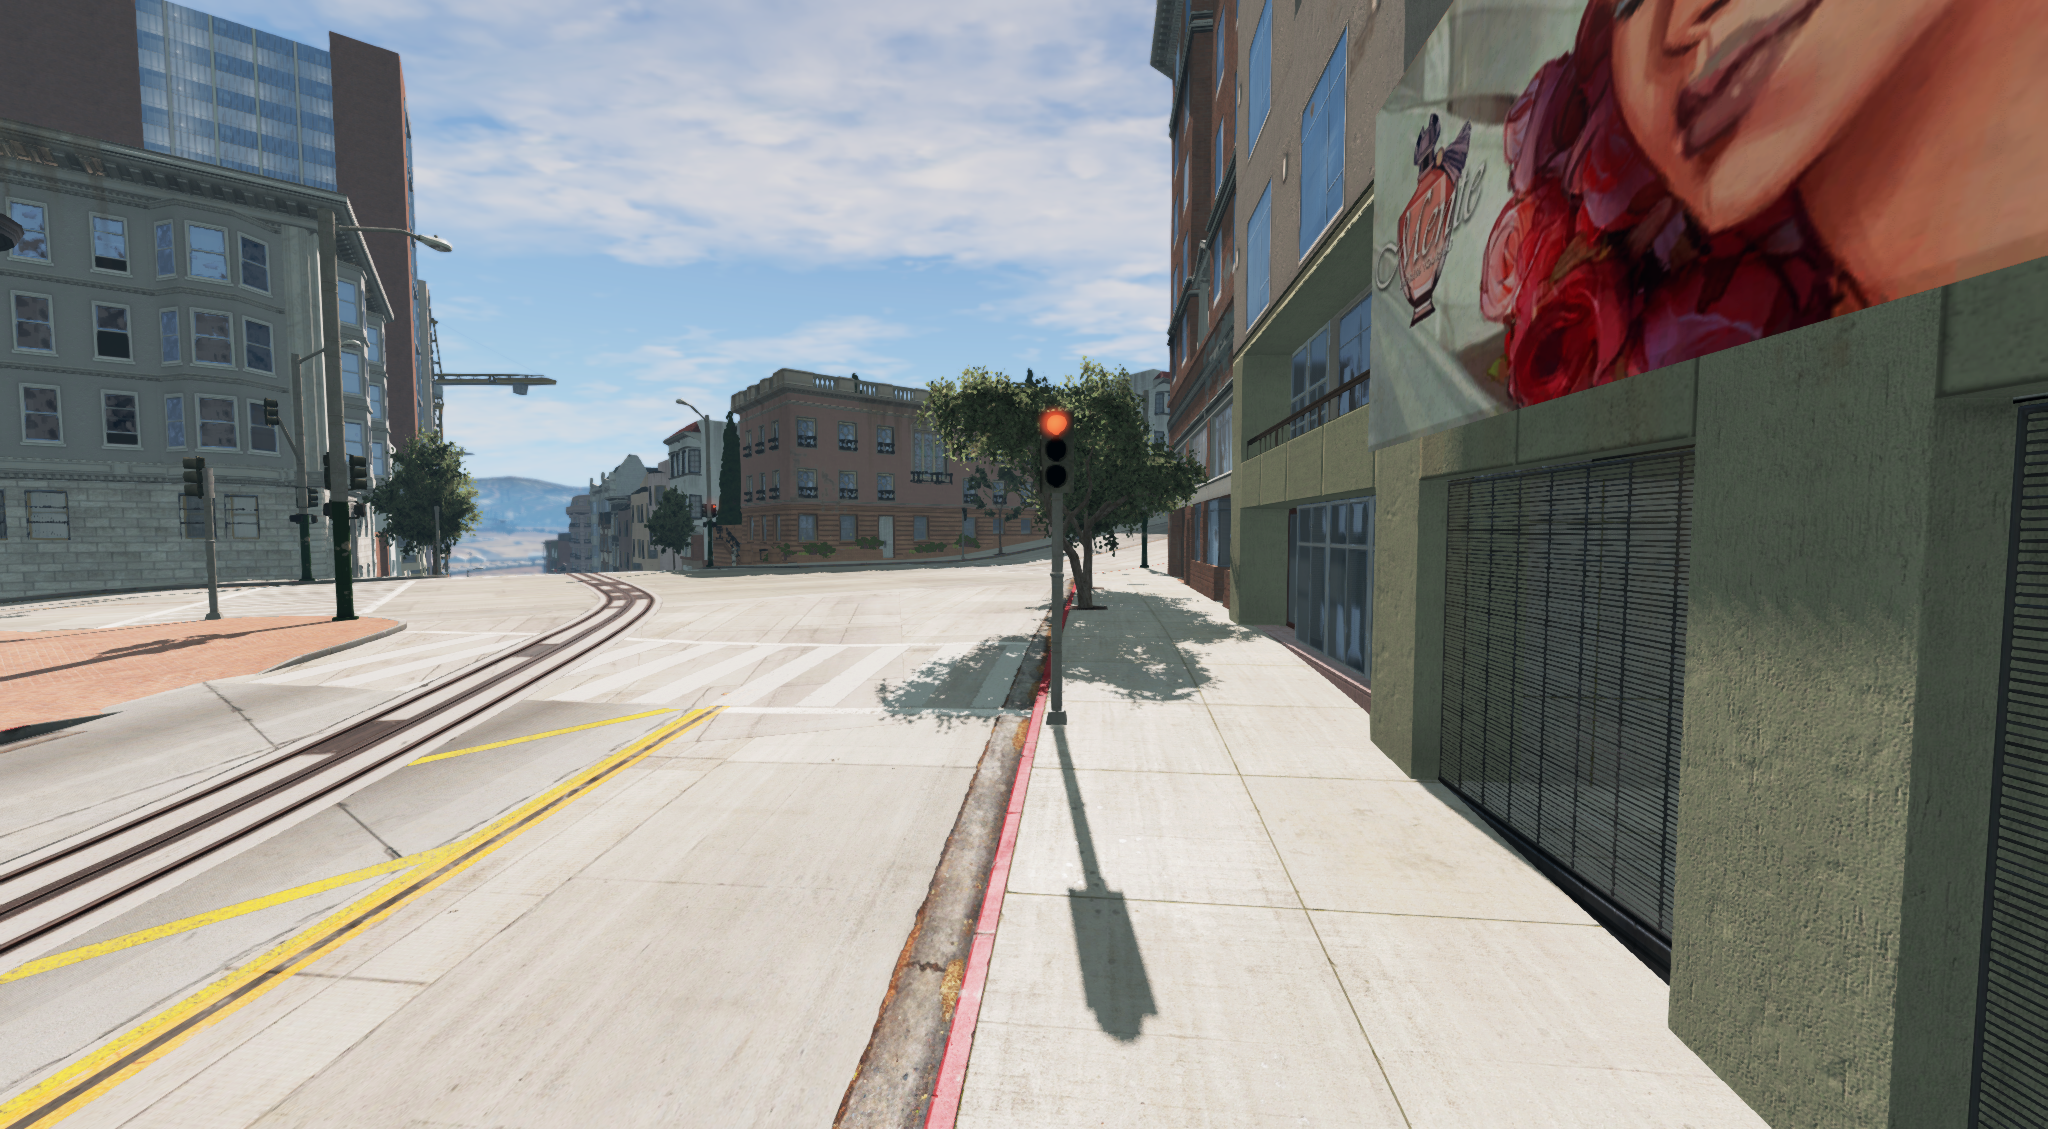red: (1032, 409, 1079, 494)
